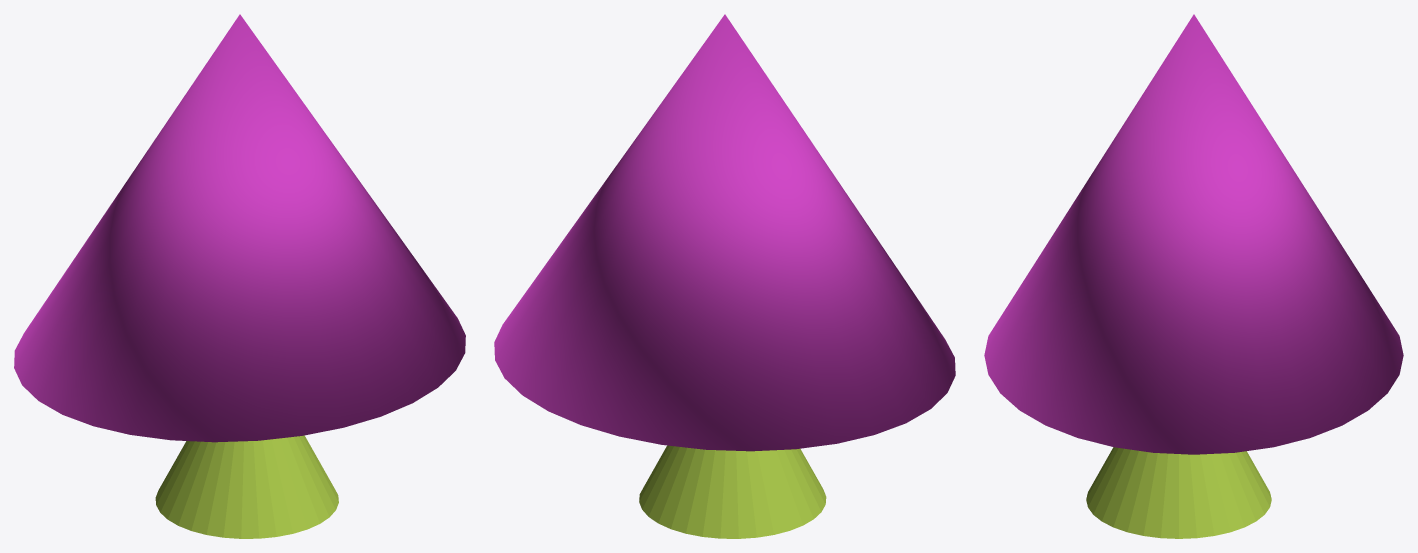
File: bush.obj
3 renders of one model, left to right at view 1: azimuth 30°, elevation 25°; view 2: azimuth 150°, elevation 25°; view 3: azimuth 270°, elevation 25°, orthographic. The views are drawn at different scales.
Visible parts, largest first — view 1: Cone.001, Cone; view 2: Cone.001, Cone; view 3: Cone.001, Cone.
Part boxes in pixels (x1=…): Cone.001: x1=14, y1=14, x2=465, y2=442; Cone: x1=155, y1=435, x2=338, y2=538; Cone.001: x1=494, y1=14, x2=955, y2=451; Cone: x1=639, y1=445, x2=826, y2=538; Cone.001: x1=984, y1=14, x2=1403, y2=454; Cone: x1=1086, y1=447, x2=1271, y2=538.
Bounding box in the file's own units: 2.35 × 2.68 × 2.09.
